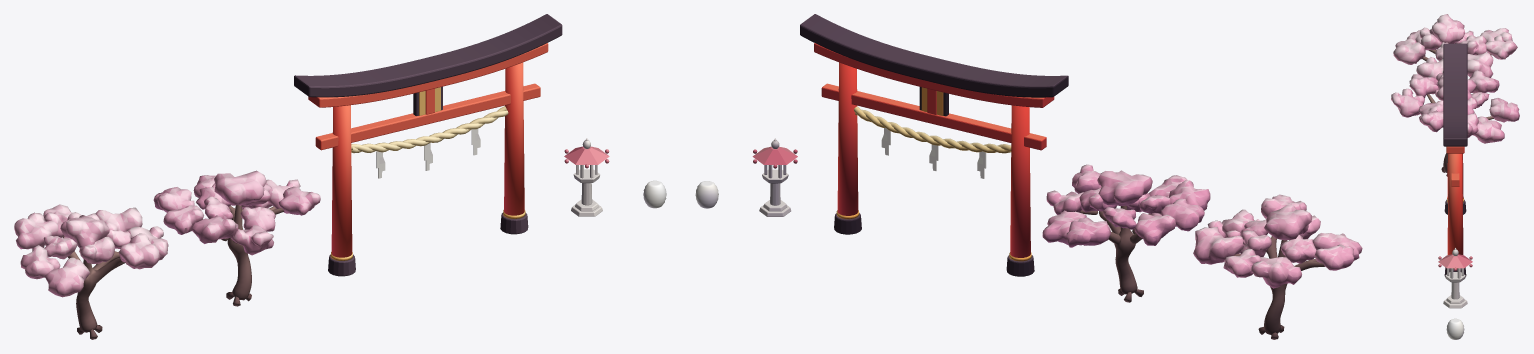
Rendered from decor_hub.fbx.
3 views of the same model, side by side, from view 1: azimuth 30°, elevation 25°; view 2: azimuth 150°, elevation 25°; view 3: azimuth 270°, elevation 25° (orthographic). The views are drawn at different scales.
Visible parts, largest first — view 1: Hub_Torii, Hub_CerisierA, Hub_CerisierB, Hub_LanternePierre, Hub_Chochin; view 2: Hub_Torii, Hub_CerisierB, Hub_CerisierA, Hub_LanternePierre, Hub_Chochin; view 3: Hub_Torii, Hub_CerisierB, Hub_CerisierA, Hub_LanternePierre, Hub_Chochin.
Boxes of the visible parts, bbox=[...] form: Hub_Torii: bbox=[294, 14, 562, 276]; Hub_CerisierA: bbox=[14, 204, 168, 339]; Hub_CerisierB: bbox=[153, 170, 320, 306]; Hub_LanternePierre: bbox=[564, 138, 609, 216]; Hub_Chochin: bbox=[643, 180, 666, 208]; Hub_Torii: bbox=[800, 14, 1068, 276]; Hub_CerisierB: bbox=[1042, 164, 1210, 302]; Hub_CerisierA: bbox=[1193, 194, 1362, 339]; Hub_LanternePierre: bbox=[752, 138, 797, 216]; Hub_Chochin: bbox=[695, 181, 718, 208]; Hub_Torii: bbox=[1443, 43, 1467, 277]; Hub_CerisierB: bbox=[1391, 70, 1519, 176]; Hub_CerisierA: bbox=[1393, 14, 1517, 77]; Hub_LanternePierre: bbox=[1438, 248, 1472, 308]; Hub_Chochin: bbox=[1446, 318, 1464, 339].
Bounding box in the file's own units: 57.11 × 17.79 × 12.83.
Materials: 1 (1 with a texture image).
